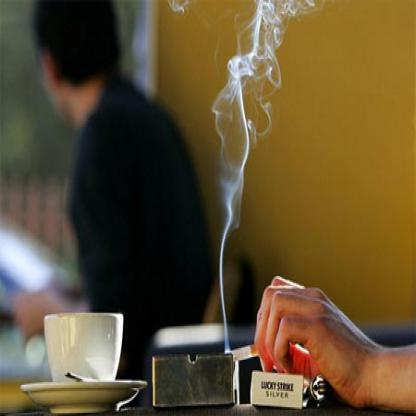smoke: (212, 0, 278, 325)
